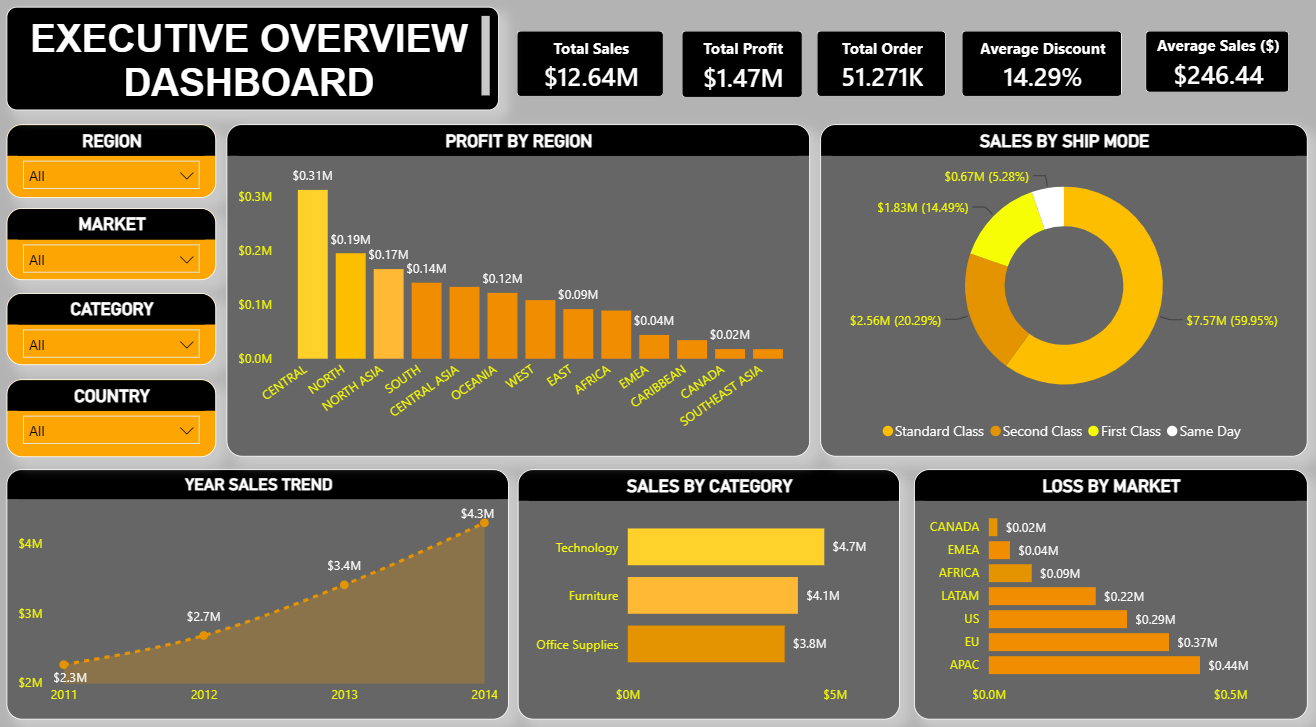

Layout of this report page (visuals, bound fields, positions):
{"tool":"powerbi","page":{"name":"Executive Overview","canvas":[1280,720],"ordinal":0},"visuals":[{"type":"cardVisual","title":"sadadfdfgjkfgj","fields":{"Data":["Sum(Clean Data.profit)"]},"box":[646.3,19.1,151.7,99.7],"z":0},{"type":"cardVisual","fields":{"Data":["Sum(Clean Data.sales)"]},"box":[487.8,19.1,176.3,98.4],"z":1000},{"type":"cardVisual","fields":{"Data":["CountNonNull(Clean Data.order_id)"]},"box":[777.5,19.1,159.9,98.4],"z":2000},{"type":"cardVisual","fields":{"Data":["Avg(Clean Data.discount)"]},"box":[916.8,19.1,189.9,98.4],"z":3000},{"type":"slicer","title":"REGION","fields":{"Values":["Clean Data.region"]},"box":[12.3,127.1,202.2,71.1],"z":4000},{"type":"slicer","title":"MARKET","fields":{"Values":["Clean Data.market"]},"box":[12.3,207.7,202.2,69.7],"z":5000},{"type":"slicer","title":"CATEGORY","fields":{"Values":["Clean Data.category"]},"box":[12.3,289.7,202.2,69.7],"z":6000},{"type":"textbox","box":[12.3,13.7,475.5,99.7],"z":7000},{"type":"areaChart","title":"YEAR SALES TREND","fields":{"Y":["Sum(Clean Data.sales)"],"Category":["Clean Data.order_date.Variation.Date Hierarchy.Year"]},"box":[12.3,459.1,485.1,241.8],"z":8000},{"type":"slicer","title":"COUNTRY","fields":{"Values":["Clean Data.country"]},"box":[12.3,373,202.2,75.1],"z":9000},{"type":"barChart","title":"SALES BY CATEGORY","fields":{"Y":["Sum(Clean Data.sales)"],"Category":["Clean Data.category"]},"box":[505.6,459.1,368.9,241.8],"z":10000},{"type":"columnChart","title":"PROFIT BY REGION","fields":{"Category":["Clean Data.region"],"Y":["Sum(Clean Data.profit)"]},"box":[224.1,127.1,562.9,321.1],"z":11000},{"type":"donutChart","title":"SALES BY SHIP MODE","fields":{"Category":["Clean Data.ship_mode"],"Y":["Sum(Clean Data.sales)"]},"box":[798,127.1,470,321.1],"z":12000},{"type":"clusteredBarChart","title":"LOSS BY MARKET","fields":{"Category":["Clean Data.market"],"Y":["Sum(Clean Data.profit)"]},"box":[888.1,459.1,379.8,241.8],"z":13000},{"type":"cardVisual","fields":{"Data":["Avg(Clean Data.sales)"]},"box":[1094.5,19.1,173.5,94.3],"z":14000}]}

Visuals, with their boxes in screenshot pixels (x1, y1, x2, y2), scaled from the page's 1280x720 canvas onto the 1316x727 screenshot:
"sadadfdfgjkfgj" cardVisual: region(664, 19, 820, 120)
cardVisual - Sum(Clean Data.sales): region(502, 19, 683, 119)
cardVisual - CountNonNull(Clean Data.order_id): region(799, 19, 964, 119)
cardVisual - Avg(Clean Data.discount): region(943, 19, 1138, 119)
"REGION" slicer: region(13, 128, 221, 200)
"MARKET" slicer: region(13, 210, 221, 280)
"CATEGORY" slicer: region(13, 293, 221, 363)
textbox: region(13, 14, 502, 115)
"YEAR SALES TREND" areaChart: region(13, 464, 511, 708)
"COUNTRY" slicer: region(13, 377, 221, 452)
"SALES BY CATEGORY" barChart: region(520, 464, 899, 708)
"PROFIT BY REGION" columnChart: region(230, 128, 809, 453)
"SALES BY SHIP MODE" donutChart: region(820, 128, 1304, 453)
"LOSS BY MARKET" clusteredBarChart: region(913, 464, 1304, 708)
cardVisual - Avg(Clean Data.sales): region(1125, 19, 1304, 115)
